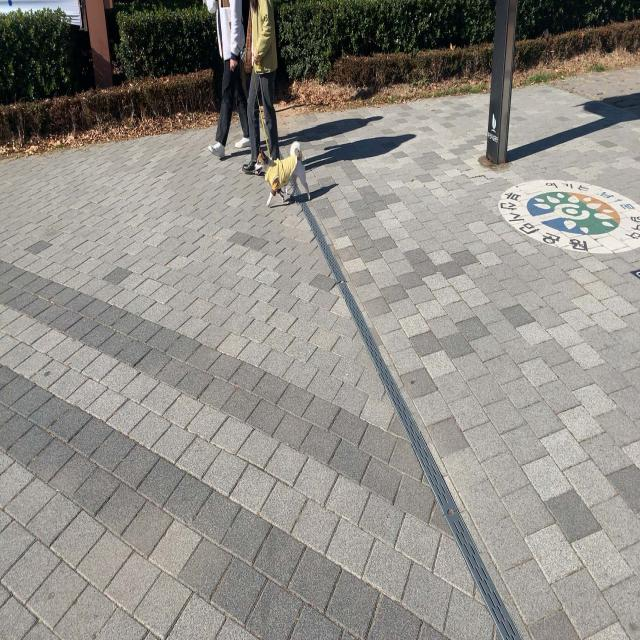Leashed_Dog: (253, 72, 311, 208)
